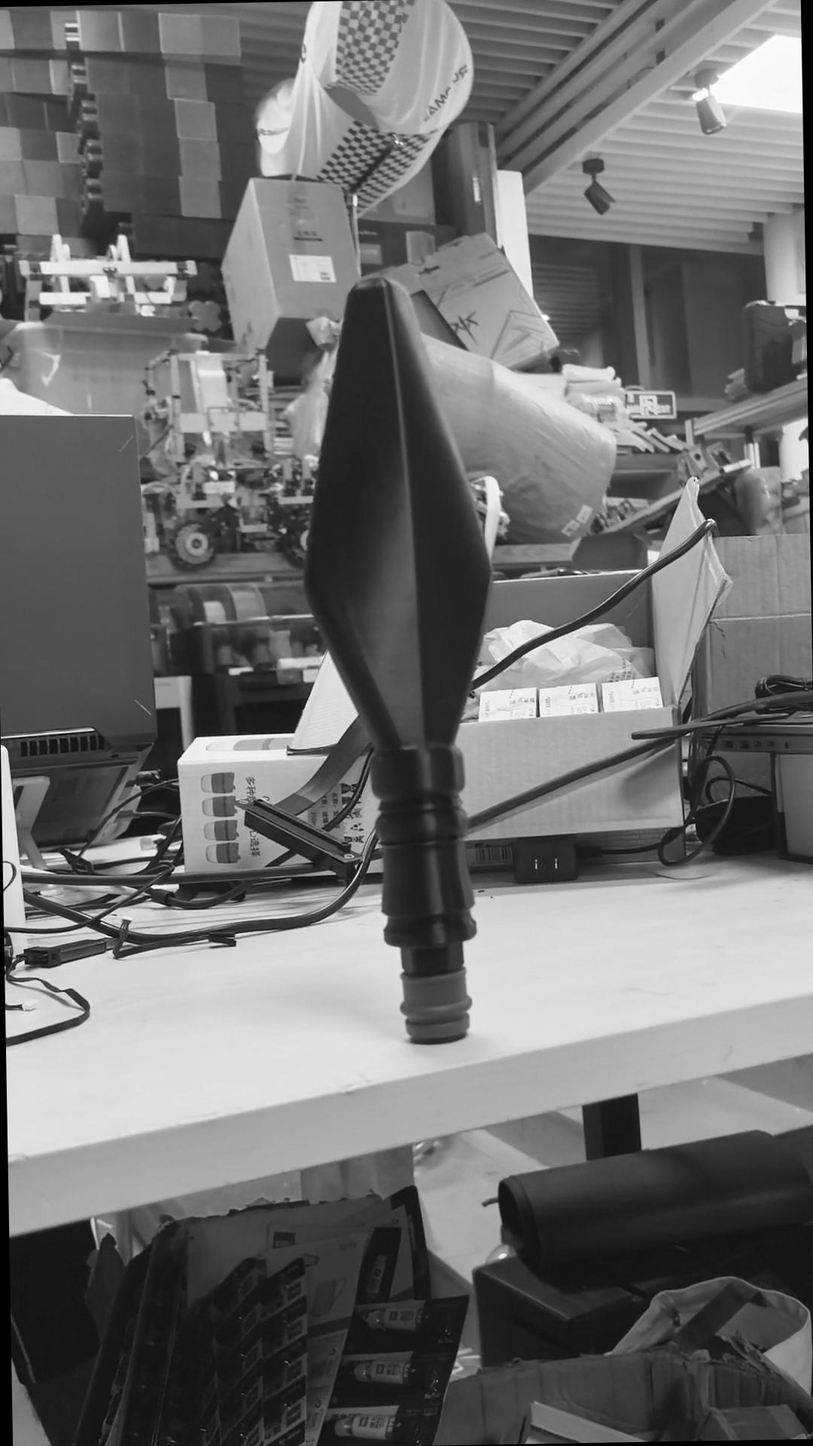base: (385, 958, 491, 1063)
